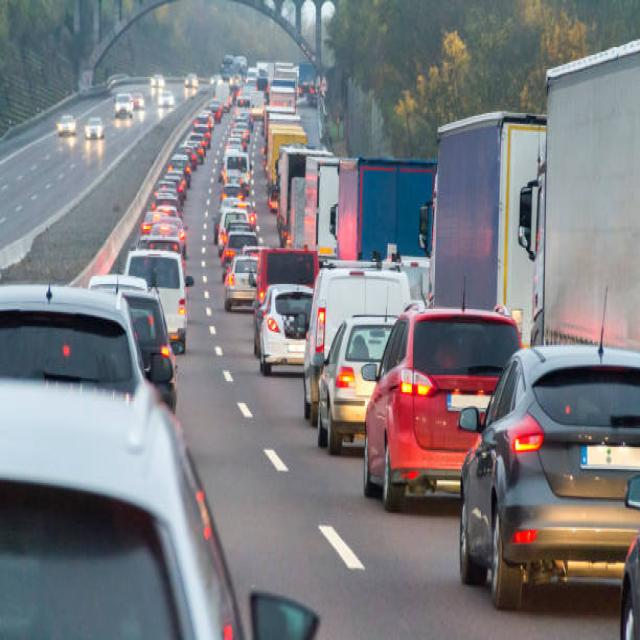Car: (0, 375, 320, 638), (458, 342, 639, 610), (362, 303, 523, 511), (84, 116, 104, 140), (56, 113, 76, 135)
Truck: (527, 38, 639, 351), (423, 110, 546, 346)
